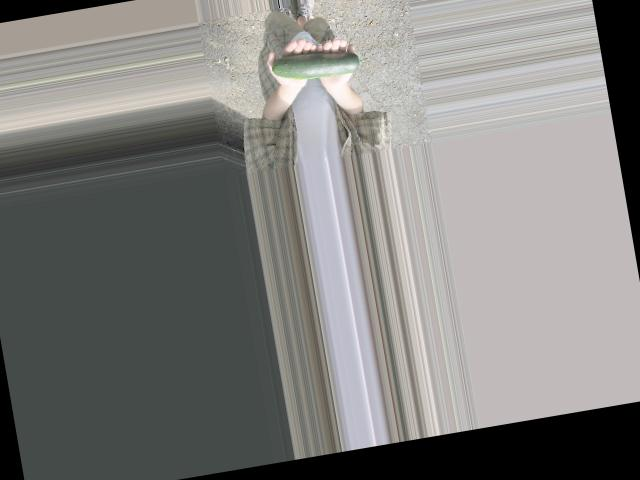cucumber: (271, 41, 371, 85)
